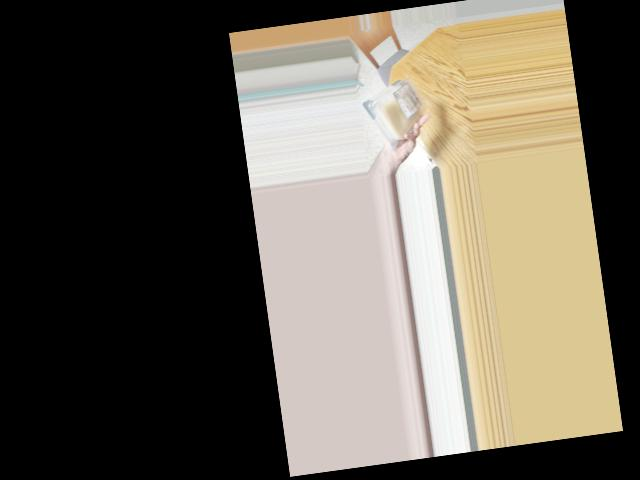cheese: (367, 72, 429, 146)
